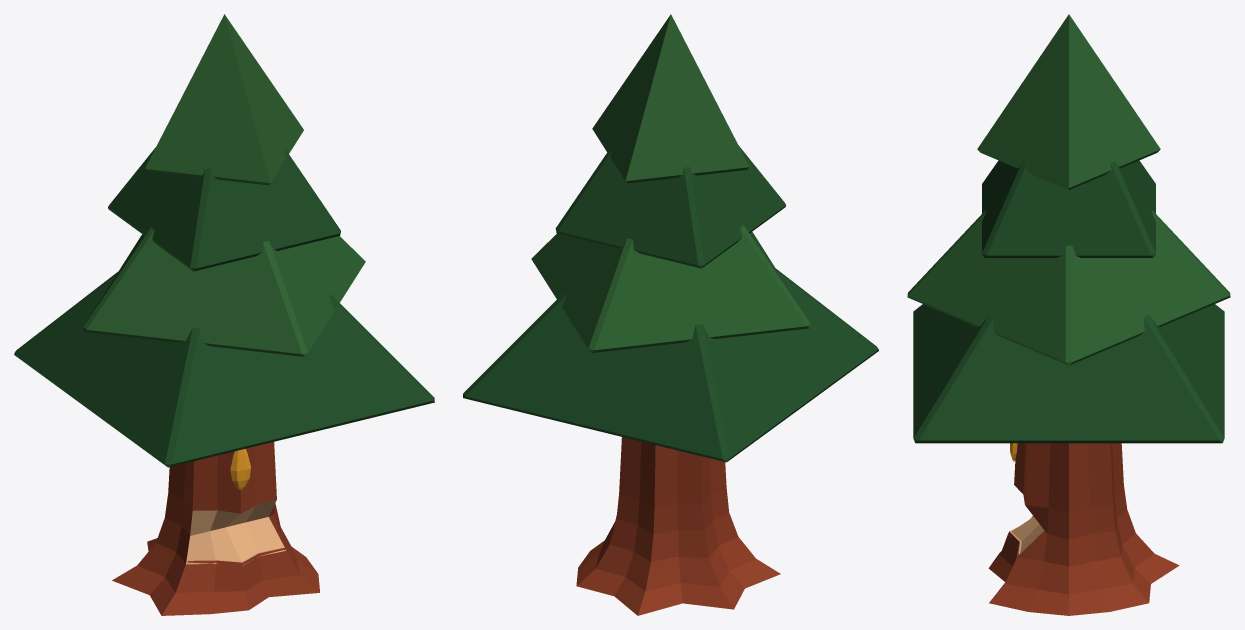
File: w2_gathering.fbx
The picture shows the model from 3 angles, left to right: view 1: azimuth 30°, elevation 25°; view 2: azimuth 150°, elevation 25°; view 3: azimuth 270°, elevation 25°; orthographic projection.
Visible parts, largest first — view 1: RedwoodTree.Needles, RedwoodTree.NeedlesLight, RedwoodTree.Trunk, RedwoodStump.Trunk, RedwoodTree.Fresh, RedwoodTree.Sap; view 2: RedwoodTree.Needles, RedwoodTree.NeedlesLight, RedwoodTree.Trunk, RedwoodStump.Trunk; view 3: RedwoodTree.Needles, RedwoodTree.NeedlesLight, RedwoodTree.Trunk, RedwoodStump.Trunk, RedwoodTree.Fresh.
Part boxes in pixels (x1=…): RedwoodTree.Needles: x1=14, y1=147, x2=434, y2=467; RedwoodTree.NeedlesLight: x1=83, y1=14, x2=365, y2=356; RedwoodTree.Trunk: x1=137, y1=442, x2=300, y2=592; RedwoodStump.Trunk: x1=112, y1=527, x2=319, y2=615; RedwoodTree.Fresh: x1=186, y1=499, x2=286, y2=565; RedwoodTree.Sap: x1=230, y1=449, x2=251, y2=490; RedwoodTree.Needles: x1=463, y1=145, x2=878, y2=462; RedwoodTree.NeedlesLight: x1=531, y1=14, x2=810, y2=352; RedwoodTree.Trunk: x1=595, y1=437, x2=755, y2=591; RedwoodStump.Trunk: x1=576, y1=540, x2=780, y2=615; RedwoodTree.Needles: x1=913, y1=160, x2=1224, y2=443; RedwoodTree.NeedlesLight: x1=907, y1=14, x2=1230, y2=365; RedwoodTree.Trunk: x1=1000, y1=443, x2=1154, y2=594; RedwoodStump.Trunk: x1=988, y1=531, x2=1179, y2=615; RedwoodTree.Fresh: x1=1008, y1=516, x2=1044, y2=556.
Size of the model in its own units: 11.24 by 21.58 by 11.24.
